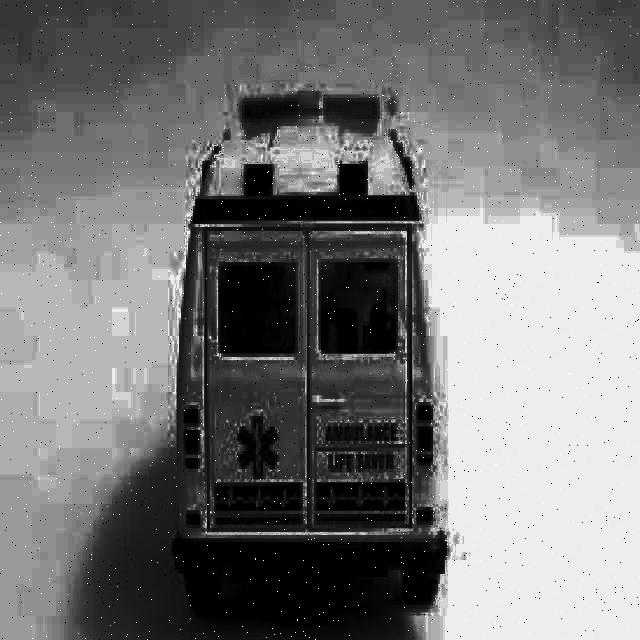LCV: (170, 113, 445, 556)
